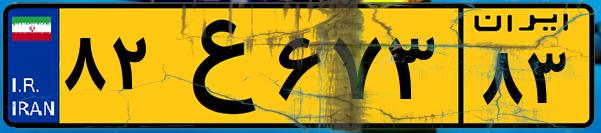2: (110, 28, 158, 98)
3: (385, 28, 445, 110), (525, 38, 570, 115)
6: (270, 28, 330, 110)
7: (330, 28, 385, 110)
8: (57, 26, 110, 100), (475, 38, 525, 113)
ع: (158, 12, 270, 120)
